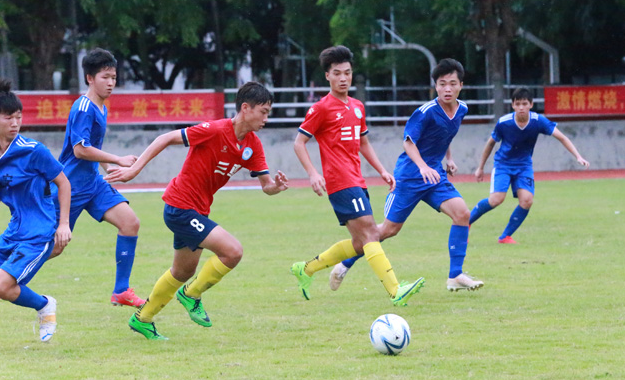football: (369, 313, 411, 357)
